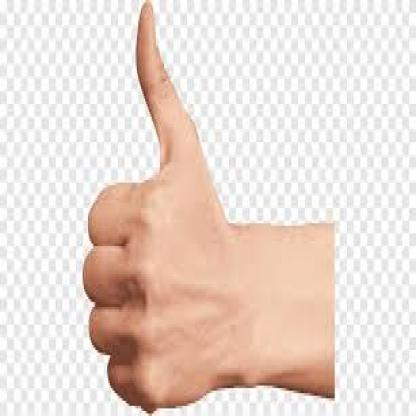thumb_up: (80, 0, 228, 416)
